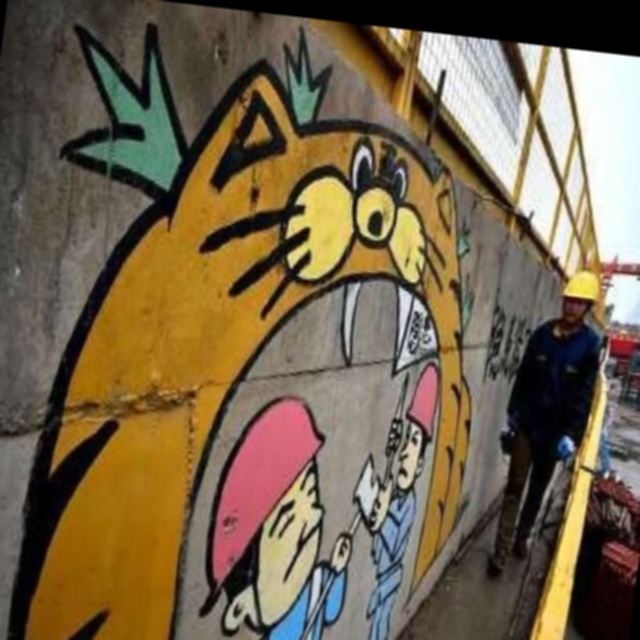Con_Casco: (558, 268, 602, 329)
